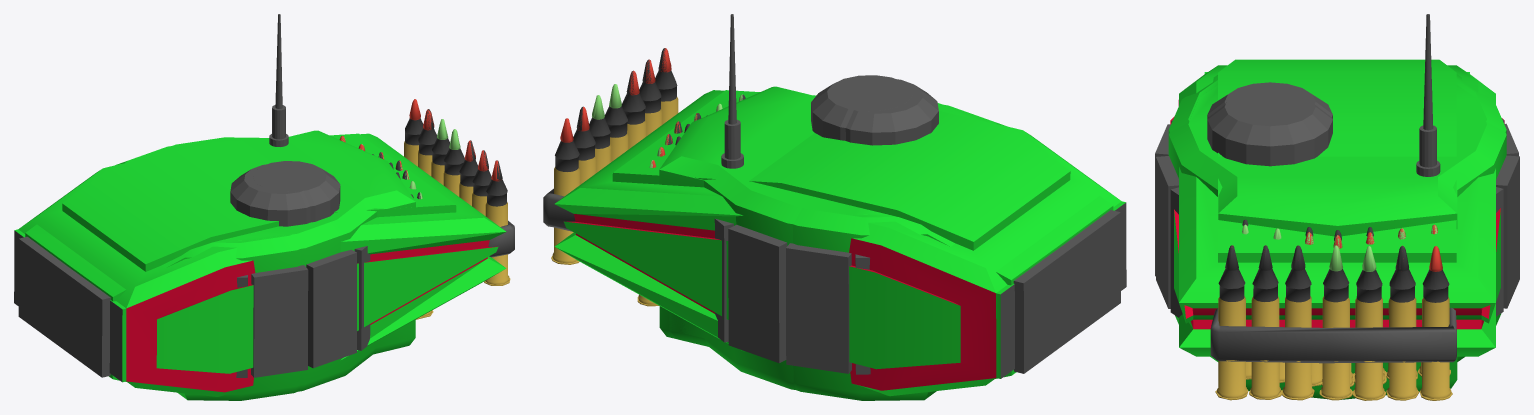
The model's file is boost_ammo_tier1-3.fbx.
3 views of the same model, side by side, from view 1: azimuth 30°, elevation 25°; view 2: azimuth 150°, elevation 25°; view 3: azimuth 270°, elevation 25° (orthographic). The views are drawn at different scales.
Visible parts, largest first — view 1: head_3_tier1, head_3_tier2, head_2_tier2, head_1_tier1, head_1_tier3, head_2_tier1, head_3_tier3; view 2: head_3_tier1, head_3_tier2, head_2_tier2, head_1_tier1, head_1_tier3, head_2_tier1, head_3_tier3; view 3: head_3_tier1, head_2_tier2, head_3_tier2, head_1_tier3, head_3_tier3, head_1_tier1, head_2_tier1, head_1_tier2.
Part boxes in pixels (x1,y1,x2,y2): head_3_tier1: (14,109,514,396); head_3_tier2: (62,99,514,396); head_2_tier2: (136,14,415,390); head_1_tier1: (18,146,421,400); head_1_tier3: (133,133,433,391); head_2_tier1: (236,14,432,377); head_3_tier3: (431,119,464,196); head_3_tier1: (543,48,1126,396); head_3_tier2: (544,48,1044,395); head_2_tier2: (638,14,986,382); head_1_tier1: (669,79,1120,400); head_1_tier3: (637,75,959,389); head_2_tier1: (667,15,870,374); head_3_tier3: (589,84,628,172); head_3_tier1: (1170,59,1504,400); head_2_tier2: (1155,14,1519,399); head_3_tier2: (1170,65,1500,400); head_1_tier3: (1176,85,1499,386); head_3_tier3: (1319,245,1385,400); head_1_tier1: (1168,74,1506,379); head_2_tier1: (1156,14,1519,384); head_1_tier2: (1308,225,1450,386).
Bounding box in the file's own units: 474 × 313 × 299.
